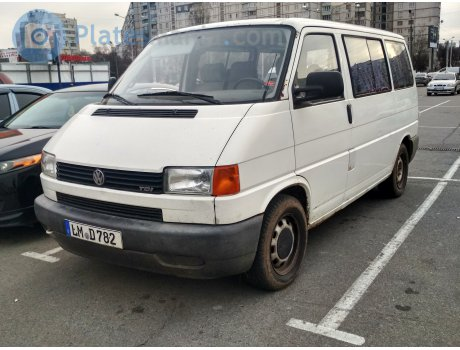License Plates: (66, 222, 114, 246)
